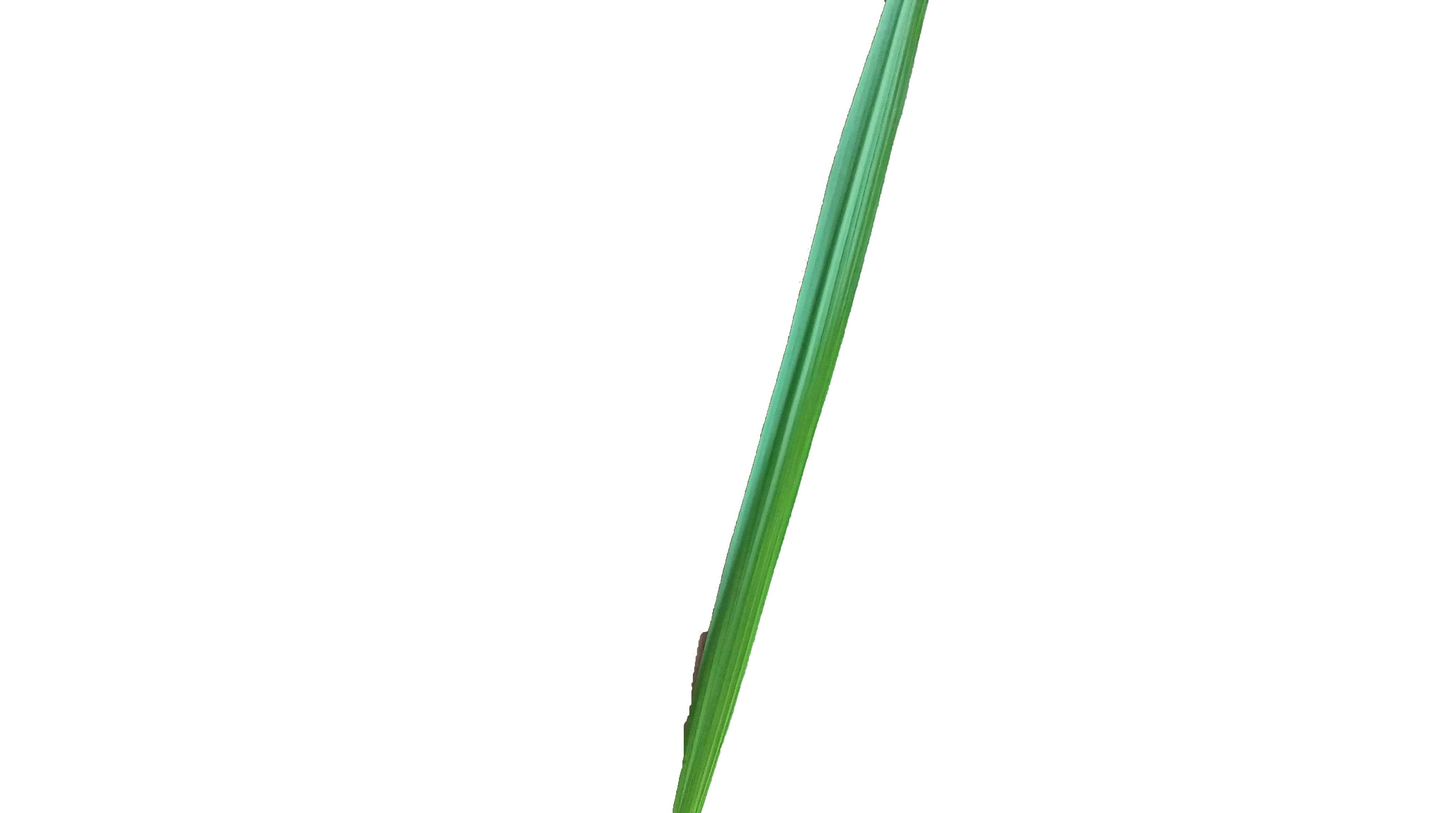Healthy: (673, 0, 938, 813)
